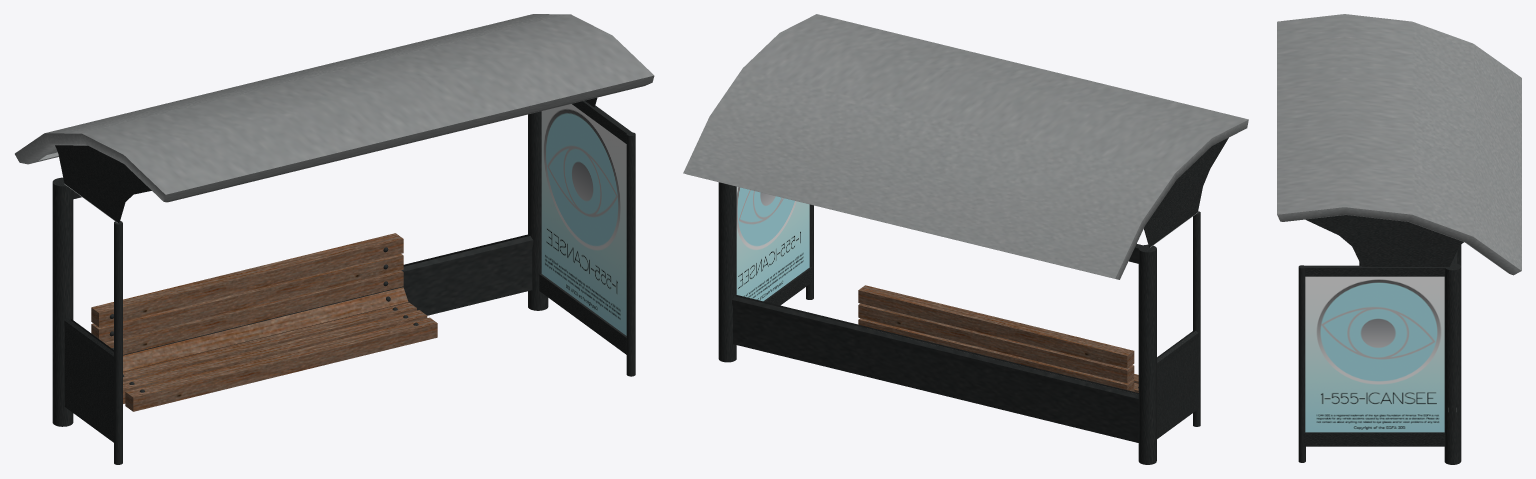
The model's file is bus_shelter.fbx.
3 views of the same model, side by side, from view 1: azimuth 30°, elevation 25°; view 2: azimuth 150°, elevation 25°; view 3: azimuth 270°, elevation 25° (orthographic). The views are drawn at different scales.
Parts seen in each view (by area): view 1: bus_shelter; view 2: bus_shelter; view 3: bus_shelter.
Boxes of the visible parts, x1,y1,x2,y2 form: bus_shelter: (15,14,654,464); bus_shelter: (683,14,1248,464); bus_shelter: (1277,14,1521,464).
Bounding box in the file's own units: 26.41 × 16.27 × 14.02.
